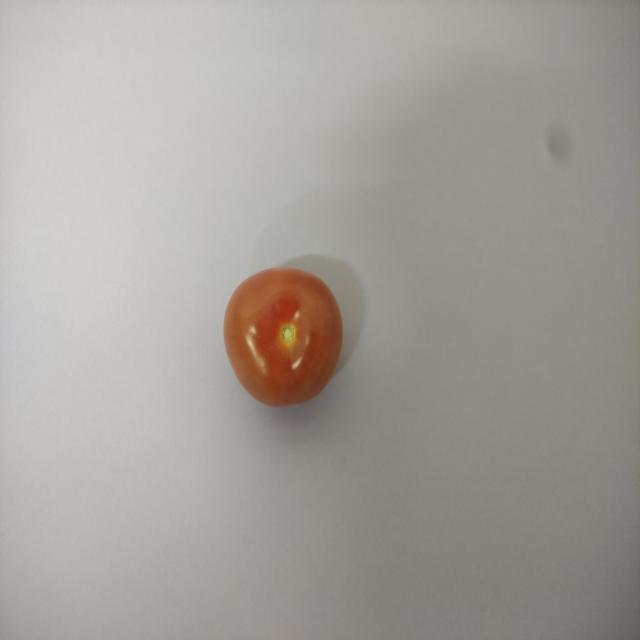sari: (222, 264, 358, 414)
